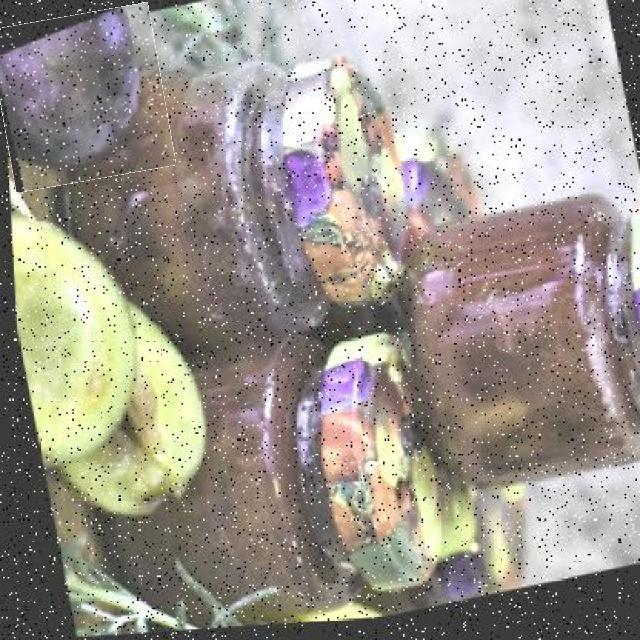plum: (0, 8, 169, 186)
